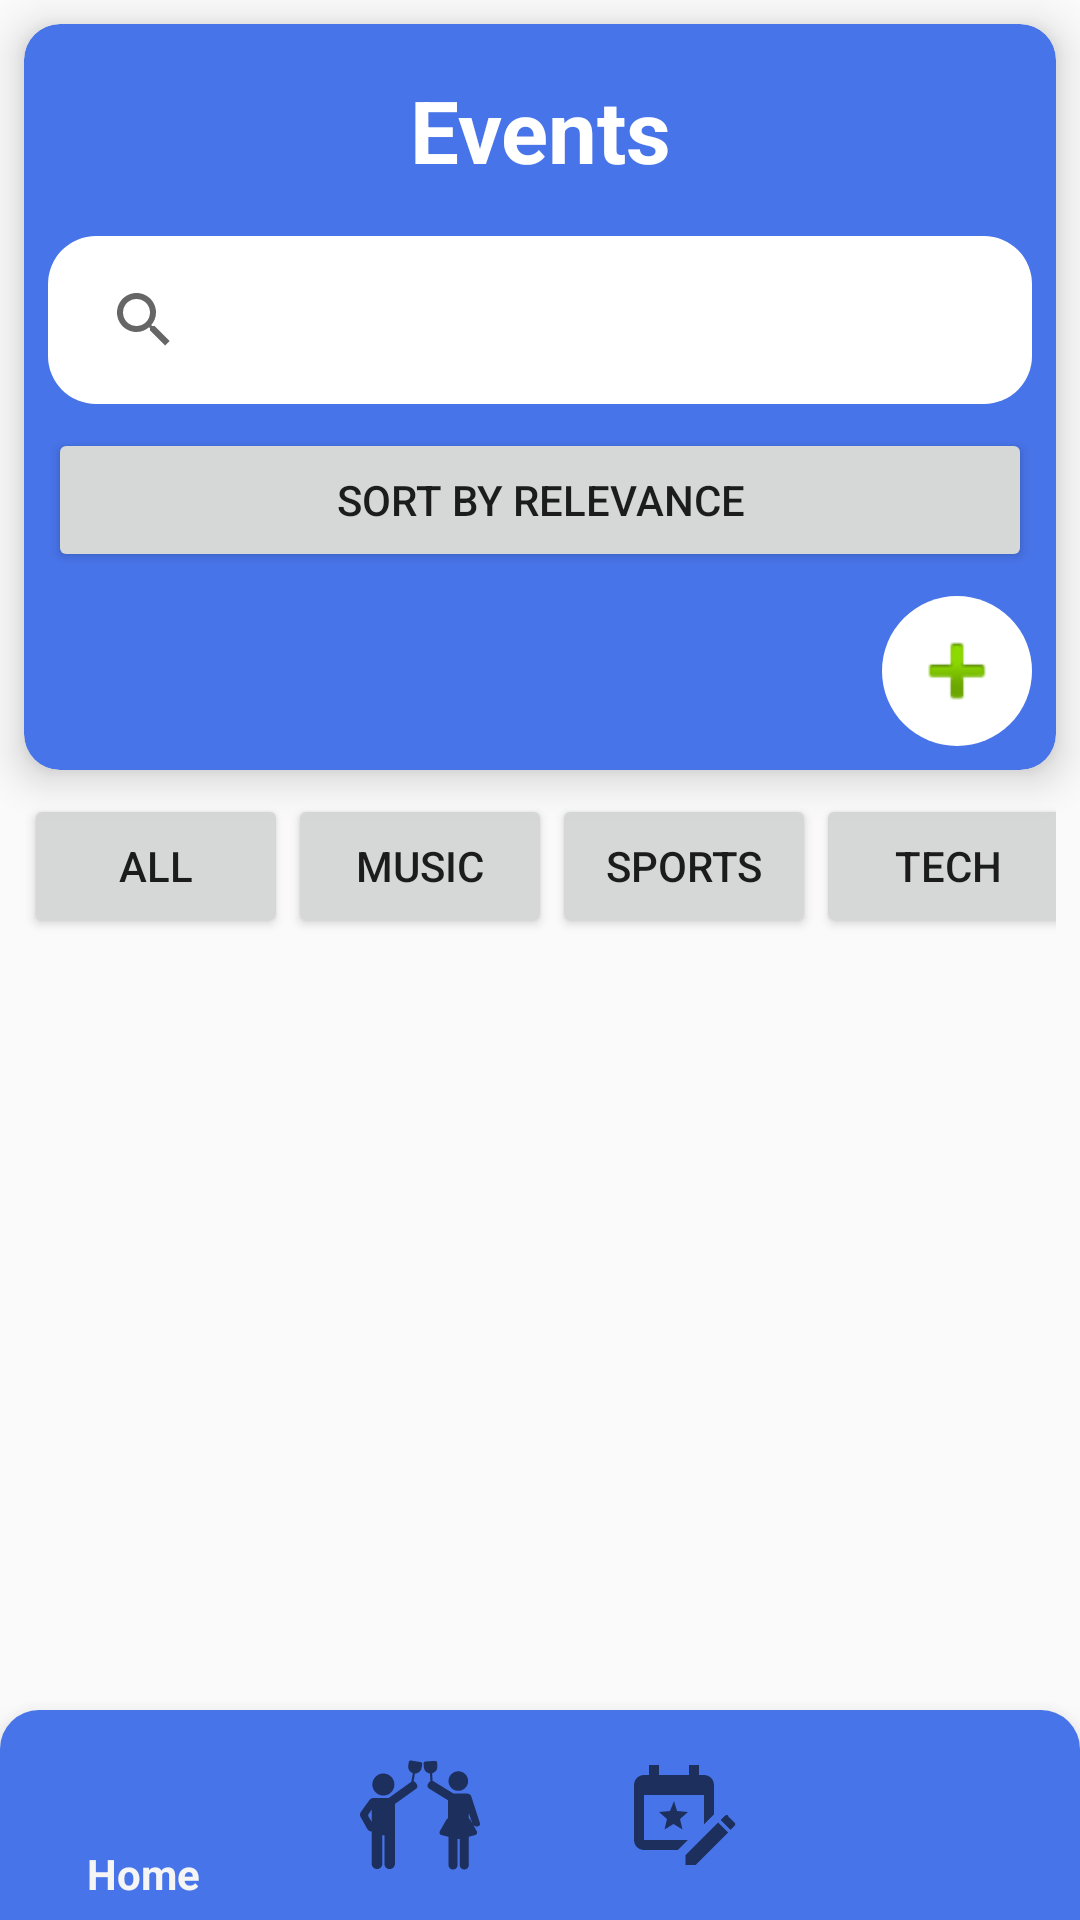

Named icons in this screenshot (1080*1920) and their bounding boxes, (x1, y1, x2, y2):
Create Event: (882, 596, 1032, 746)
